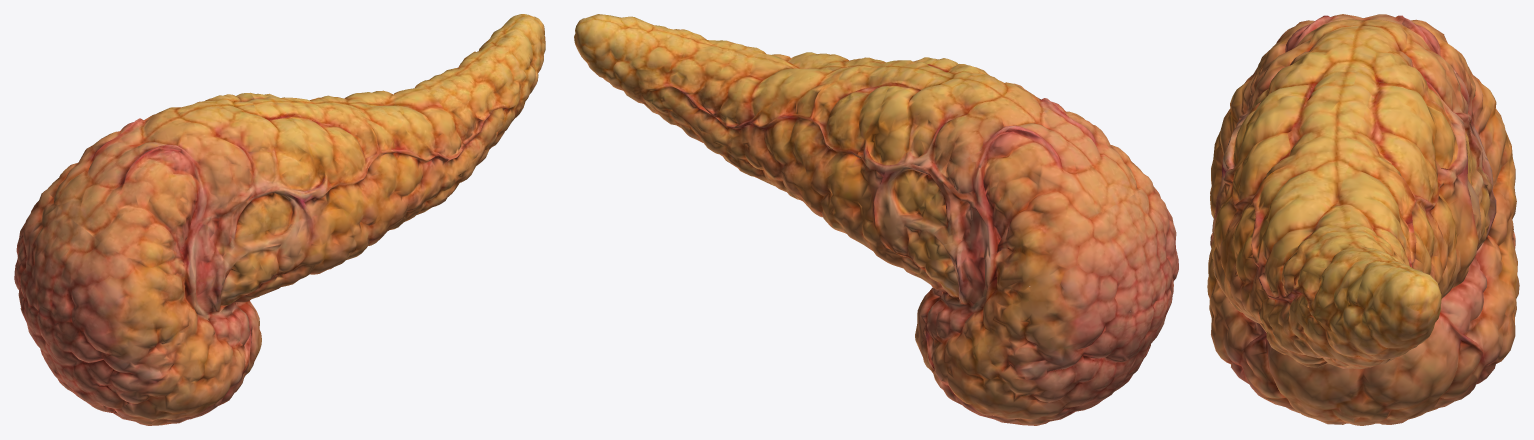
File: pancreas-lod1.glb
The picture shows the model from 3 angles, left to right: view 1: azimuth 30°, elevation 25°; view 2: azimuth 150°, elevation 25°; view 3: azimuth 270°, elevation 25°; orthographic projection. The views are drawn at different scales.
Visible parts, largest first — view 1: tripo_node_28f9ac4d-a7ee-4a69-acaa-c6201ef7be03; view 2: tripo_node_28f9ac4d-a7ee-4a69-acaa-c6201ef7be03; view 3: tripo_node_28f9ac4d-a7ee-4a69-acaa-c6201ef7be03.
Boxes of the visible parts, left/top/right/bottom form: tripo_node_28f9ac4d-a7ee-4a69-acaa-c6201ef7be03: left=14, top=14, right=545, bottom=425; tripo_node_28f9ac4d-a7ee-4a69-acaa-c6201ef7be03: left=574, top=14, right=1178, bottom=425; tripo_node_28f9ac4d-a7ee-4a69-acaa-c6201ef7be03: left=1207, top=14, right=1519, bottom=425.
Bounding box in the file's own units: 0.9796 × 0.522 × 0.3608.
1 material, 1 textured.
